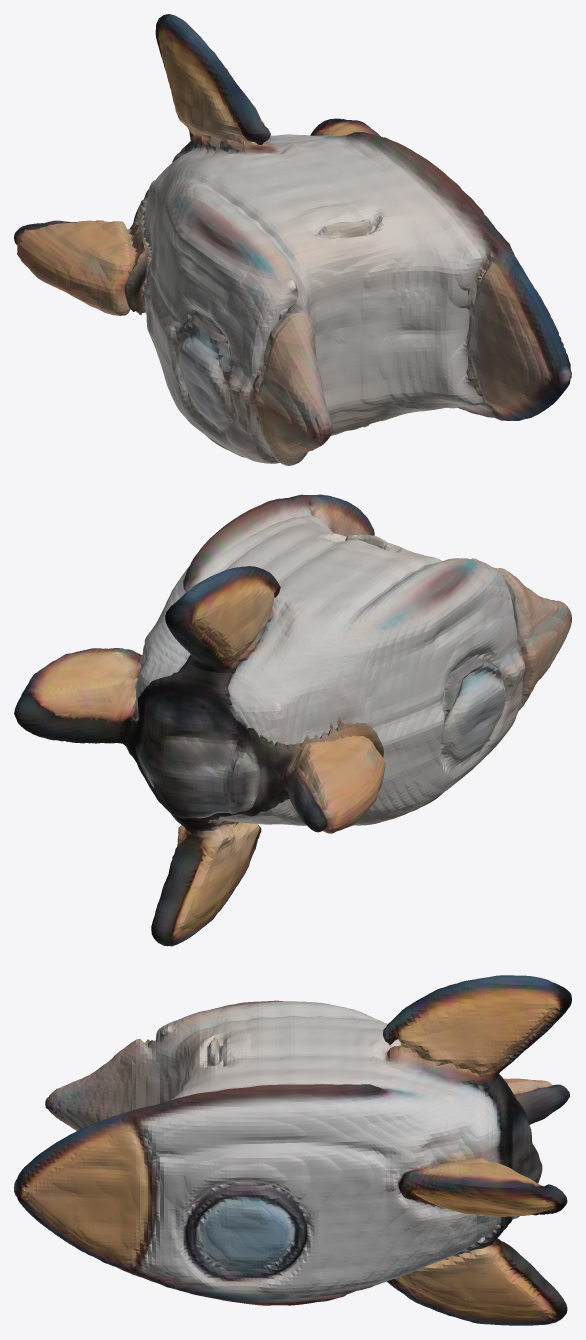
Rendered from triposr_rocket.glb.
3 views of the same model, one above another, from view 1: azimuth 30°, elevation 25°; view 2: azimuth 150°, elevation 25°; view 3: azimuth 270°, elevation 25° (orthographic). The views are drawn at different scales.
Parts seen in each view (by area): view 1: geometry_0; view 2: geometry_0; view 3: geometry_0.
Part boxes in pixels (<box>): geometry_0: <box>14,14,571,465</box>; geometry_0: <box>14,494,571,946</box>; geometry_0: <box>14,975,571,1325</box>.
Bounding box in the file's own units: 0.6084 × 0.646 × 0.9604.
